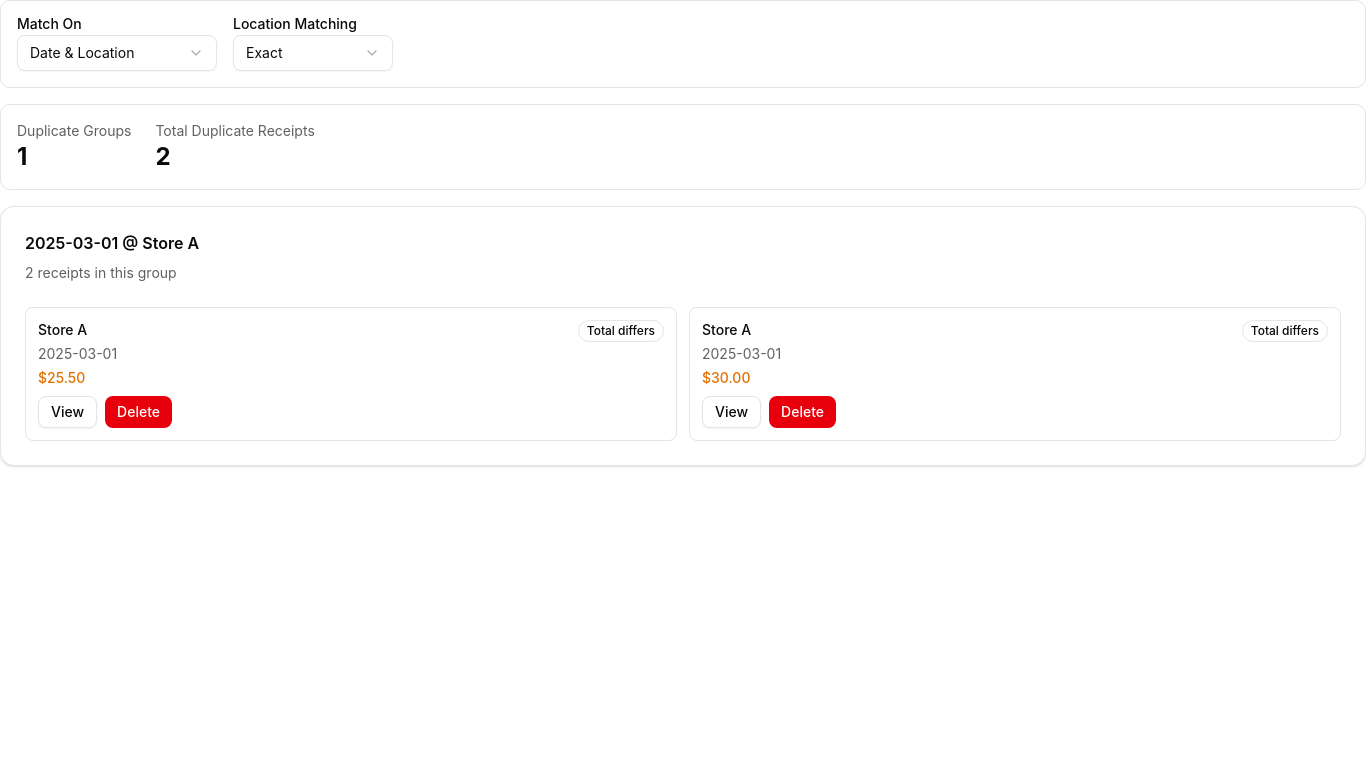
DuplicateDetection › opens delete confirmation dialog on Delete click
This screenshot has width=1366, height=768.
What coordinates should you click on to do the following:
click the button "Delete" below "$25.50"
I would click on:
 (139, 412)
Its box is [105, 396, 172, 428].
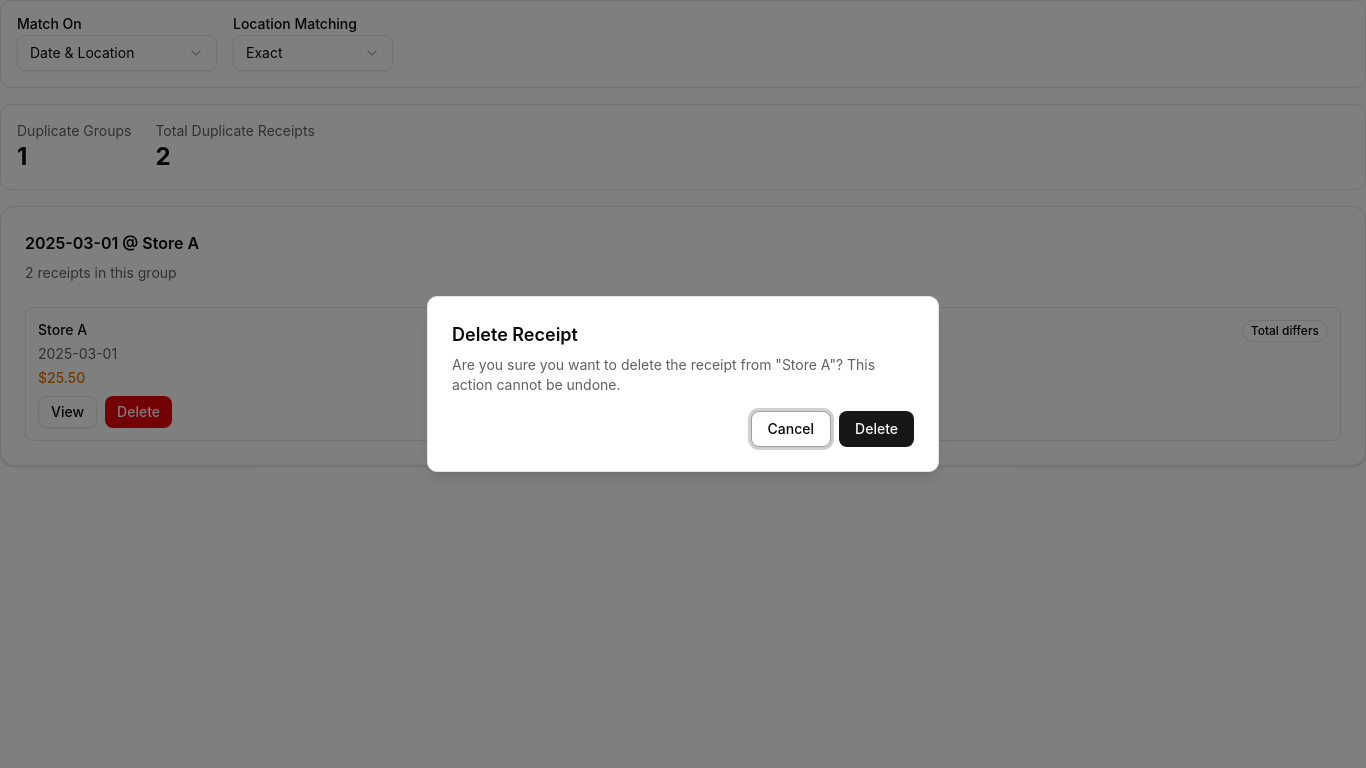
Result: the heading "Delete Receipt" is shown at [452, 321, 578, 349]
Result: the text "Are you sure you want to delete" is shown at [452, 356, 782, 373]
